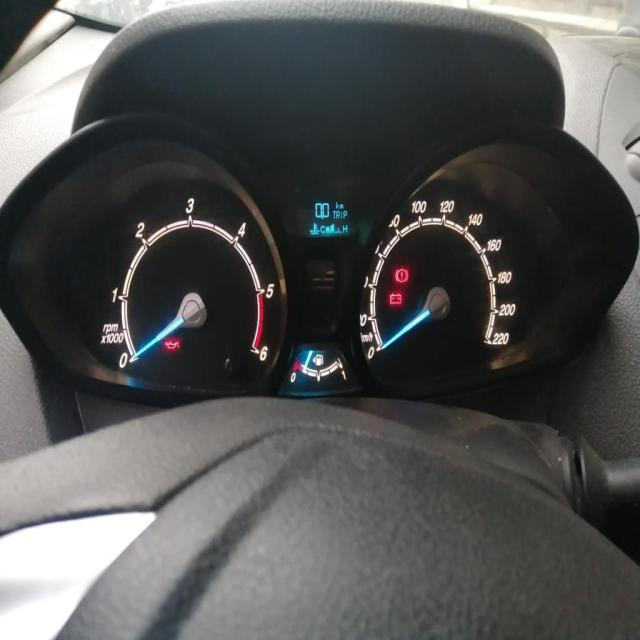odometer: (284, 192, 366, 244)
